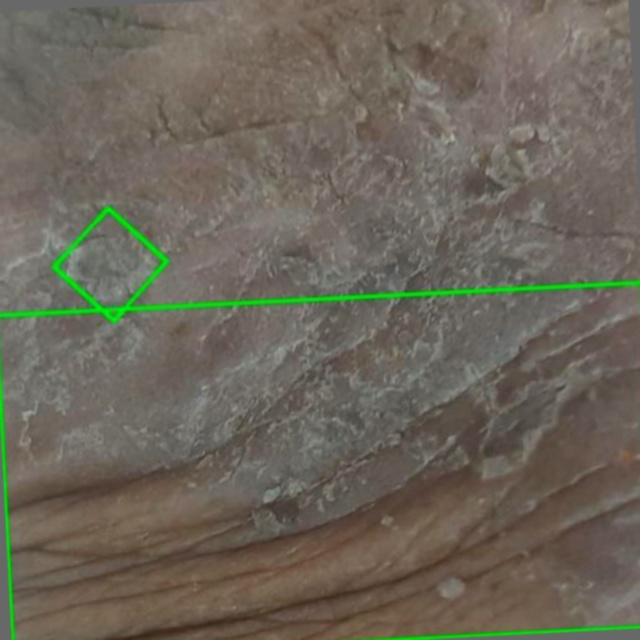Eczema: (0, 281, 639, 639), (54, 207, 166, 320)
